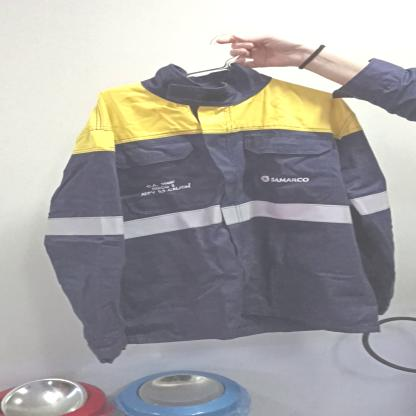C_eletrica: (39, 68, 400, 356)
